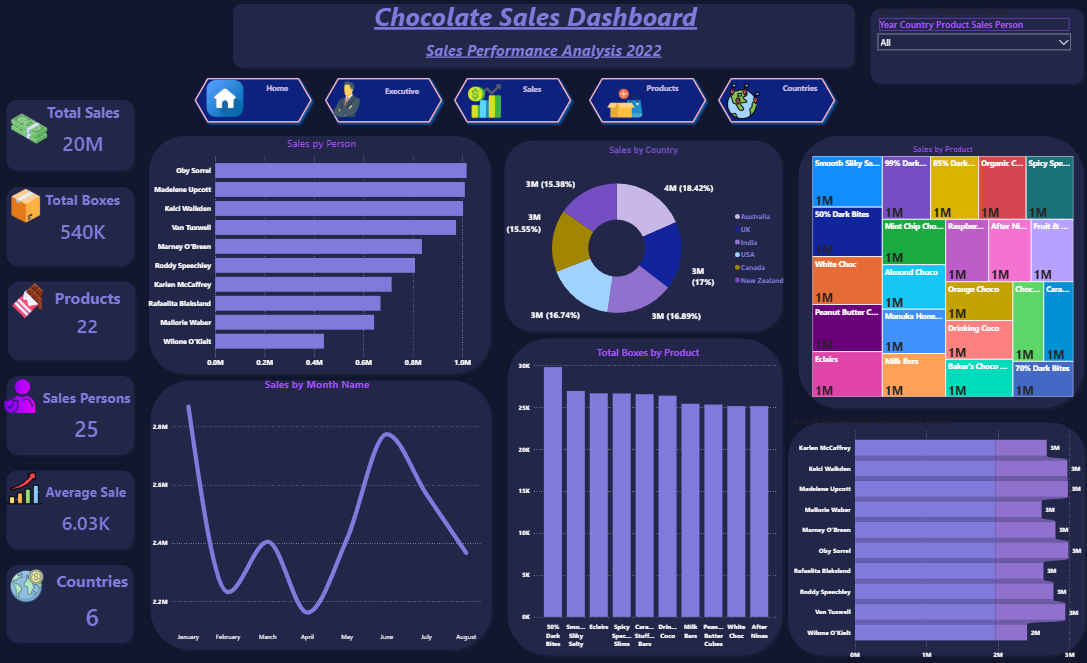

The dashboard page shown, as its layout file describes it:
{"tool":"powerbi","page":{"name":"Sales Dashboard","canvas":[2300,1400],"ordinal":2},"visuals":[{"type":"shape","box":[3.1,0,2298.4,1401.1],"z":0},{"type":"shape","box":[3.1,201.5,300.6,181.3],"z":1000},{"type":"actionButton","box":[680,163.7,263,110.2],"z":2000},{"type":"shape","box":[3.1,382.9,300.6,198.7],"z":3000},{"type":"shape","box":[5.6,581.6,300.6,198.7],"z":4000},{"type":"textbox","box":[759.4,181.6,186.5,74.3],"z":5000},{"type":"shape","box":[3.1,780.3,300.6,198.7],"z":6000},{"type":"actionButton","box":[952,163.7,263,110.2],"z":7000},{"type":"shape","box":[3.1,979.1,300.6,198.7],"z":8000},{"type":"image","box":[19.3,239.3,97.2,78.3],"z":9000},{"type":"image","box":[680.9,178.5,108,74.3],"z":10000},{"type":"image","box":[24.7,401.2,70.2,81],"z":11000},{"type":"actionButton","box":[1232.7,163.7,263,110.2],"z":12000},{"type":"image","box":[25.5,599,79.5,82],"z":13000},{"type":"image","box":[3.1,800.6,89.1,81],"z":14000},{"type":"actionButton","box":[1506.5,163.7,263,110.2],"z":15000},{"type":"image","box":[19.3,989.5,75.6,89.1],"z":16000},{"type":"shape","box":[3.1,1178.4,299.6,197],"z":17000},{"type":"actionButton","box":[406.2,163.7,263,110.2],"z":18000},{"type":"image","box":[24.7,1202.7,75.6,70.2],"z":19000},{"type":"cardVisual","fields":{"Data":["Table1.Total Sales"]},"box":[40.9,201.5,280.7,156.5],"z":20000},{"type":"textbox","box":[506.7,175.4,161.9,83.6],"z":21000},{"type":"cardVisual","fields":{"Data":["Table1.Total Boxes"]},"box":[13.9,358,334.6,210.5],"z":22000},{"type":"cardVisual","fields":{"Data":["Table1.Countries"]},"box":[59.8,1178.4,280.7,186.2],"z":23000},{"type":"image","box":[433.1,175.4,88.3,77.4],"z":24000},{"type":"cardVisual","fields":{"Data":["Table1.Sales Persons"]},"box":[62.5,789.8,251,178.1],"z":25000},{"type":"cardVisual","fields":{"Data":["Table1.Products"]},"box":[27.4,546.9,323.8,232.1],"z":26000},{"type":"shape","box":[302.3,277.1,750.4,532.5],"z":27000},{"type":"shape","box":[305.4,789.8,750.2,599.1],"z":28000},{"type":"textbox","box":[1029.3,178.5,191.4,58.8],"z":29000},{"type":"barChart","title":"Sales py Person","fields":{"Y":["Table1.Total Sales"],"Category":["Table1.Sales Person"]},"box":[313.1,293.9,739.6,496.6],"z":30000},{"type":"textbox","box":[1318.8,175.4,159.5,80.5],"z":31000},{"type":"lineChart","title":"Sales by Month Name","fields":{"Y":["Table1.Total Sales"],"Category":["Calendar.Month Name"]},"box":[321.6,800.6,701.7,564],"z":32000},{"type":"shape","box":[1047.6,286.3,617.1,434.5],"z":33000},{"type":"shape","box":[1665.4,277.1,633,604.5],"z":34000},{"type":"image","box":[1278.3,176.3,78.7,97.6],"z":35000},{"type":"shape","box":[1054.7,702.1,610.8,699],"z":36000},{"type":"donutChart","title":"Sales by Country","fields":{"Category":["Table1.Country"],"Y":["Table1.Total Sales"]},"box":[1047.6,311.5,617.1,412.5],"z":37000},{"type":"textbox","box":[1605.9,175.4,159.5,80.5],"z":38000},{"type":"treemap","title":" Sales by Product","fields":{"Group":["Table1.Product"],"Values":["Table1.Total Sales"]},"box":[1706.4,310.7,557.4,534.5],"z":39000},{"type":"columnChart","fields":{"Category":["Table1.Product"],"Y":["Table1.Total Boxes"]},"box":[1089.4,733.6,554.1,642.3],"z":40000},{"type":"image","box":[1522.5,181.6,85.9,77.4],"z":41000},{"type":"shape","box":[1816.7,9.4,481.7,192.1],"z":42000},{"type":"slicer","title":"Year,,,,,,,,,Country    Produc Sales Person","fields":{"Values":["Calendar.Year","Table1.Country","Table1.Product","Table1.Sales Person"]},"box":[1838.7,22,425,157.4],"z":43000},{"type":"shape","box":[1643.5,878.4,658,522.7],"z":44000},{"type":"barChart","fields":{"Category":["Table1.Sales Person"],"Y":["Sum(Calendar.Year)","Table1.Total Sales"]},"box":[1665.6,881.6,636,519.5],"z":45000},{"type":"cardVisual","fields":{"Data":["Table1.Average Sale"]},"box":[54.8,993.3,266.6,168.7],"z":46000},{"type":"shape","box":[478.6,0,1338.1,166.9],"z":47000},{"type":"textbox","box":[421.9,0,1416.8,100.8],"z":48000},{"type":"textbox","box":[421.9,85,1451.5,81.9],"z":49000},{"type":"image","box":[976,179.5,94.5,81.9],"z":50000}]}

Visuals, with their boxes in screenshot pixels (x1, y1, x2, y2), scaled from the page's 2300x1400 canvas onto the 1087x663 screenshot:
shape: <box>1,0,1086,662</box>
shape: <box>1,95,144,181</box>
actionButton: <box>321,78,446,130</box>
shape: <box>1,181,144,275</box>
shape: <box>3,275,145,370</box>
textbox: <box>359,86,447,121</box>
shape: <box>1,370,144,464</box>
actionButton: <box>450,78,574,130</box>
shape: <box>1,464,144,558</box>
image: <box>9,113,55,150</box>
image: <box>322,85,373,120</box>
image: <box>12,190,45,228</box>
actionButton: <box>583,78,707,130</box>
image: <box>12,284,50,323</box>
image: <box>1,379,44,418</box>
actionButton: <box>712,78,836,130</box>
image: <box>9,469,45,511</box>
shape: <box>1,558,143,651</box>
actionButton: <box>192,78,316,130</box>
image: <box>12,570,47,603</box>
cardVisual - Table1.Total Sales: <box>19,95,152,170</box>
textbox: <box>239,83,316,123</box>
cardVisual - Table1.Total Boxes: <box>7,170,165,269</box>
cardVisual - Table1.Countries: <box>28,558,161,646</box>
image: <box>205,83,246,120</box>
cardVisual - Table1.Sales Persons: <box>30,374,148,458</box>
cardVisual - Table1.Products: <box>13,259,166,369</box>
shape: <box>143,131,498,383</box>
shape: <box>144,374,499,658</box>
textbox: <box>486,85,577,112</box>
"Sales py Person" barChart: <box>148,139,498,374</box>
textbox: <box>623,83,699,121</box>
"Sales by Month Name" lineChart: <box>152,379,484,646</box>
shape: <box>495,136,787,341</box>
shape: <box>787,131,1086,418</box>
image: <box>604,83,641,130</box>
shape: <box>498,332,787,662</box>
"Sales by Country" donutChart: <box>495,148,787,343</box>
textbox: <box>759,83,834,121</box>
" Sales by Product" treemap: <box>806,147,1070,400</box>
columnChart - Table1.Product x Table1.Total Boxes: <box>515,347,777,652</box>
image: <box>720,86,760,123</box>
shape: <box>859,4,1086,95</box>
"Year,,,,,,,,,Country    Produc Sales Person" slicer: <box>869,10,1070,85</box>
shape: <box>777,416,1086,662</box>
barChart - Table1.Sales Person x Sum(Calendar.Year): <box>787,418,1086,662</box>
cardVisual - Table1.Average Sale: <box>26,470,152,550</box>
shape: <box>226,0,859,79</box>
textbox: <box>199,0,869,48</box>
textbox: <box>199,40,885,79</box>
image: <box>461,85,506,124</box>
